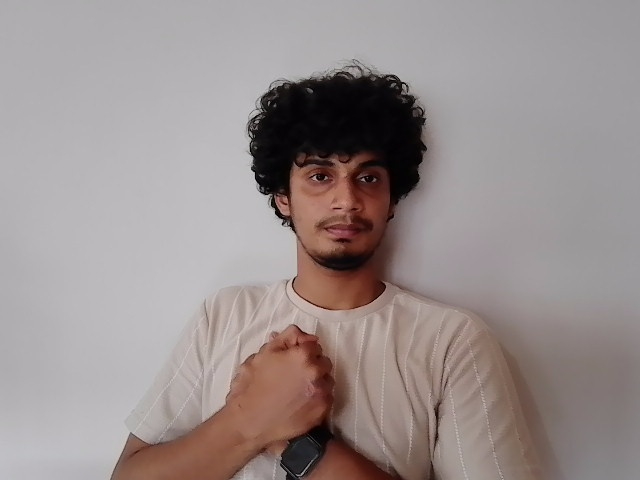love: (231, 325, 336, 457)
